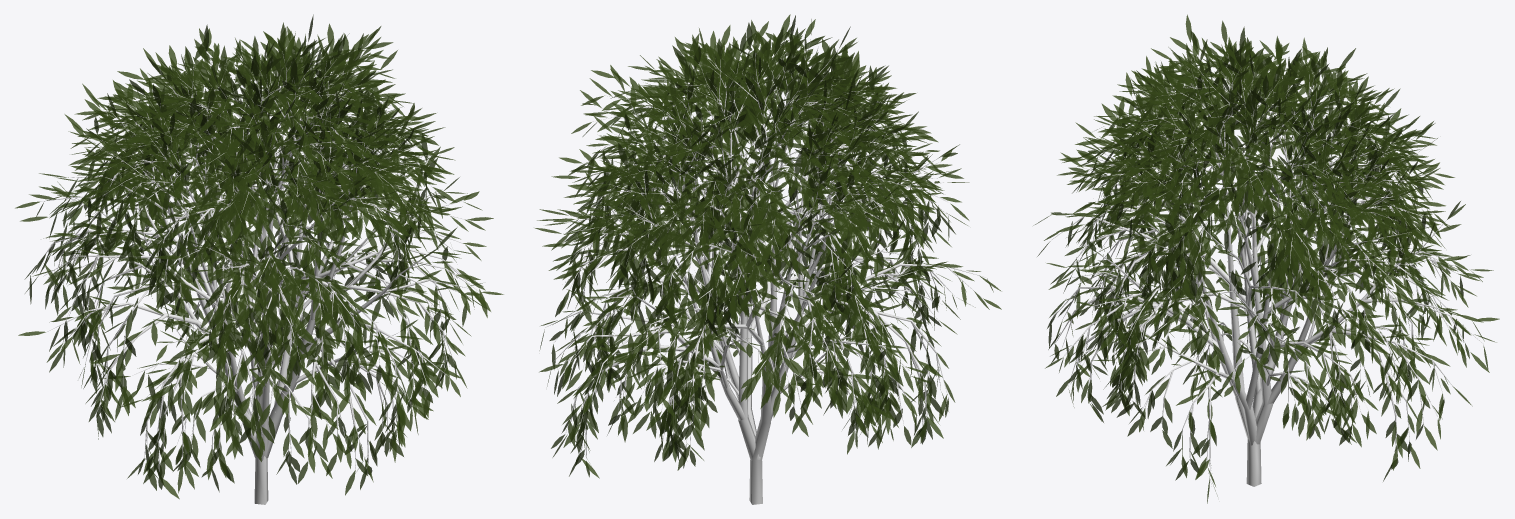
Rendered from Tree 4.fbx.
The picture shows the model from 3 angles, left to right: view 1: azimuth 30°, elevation 25°; view 2: azimuth 150°, elevation 25°; view 3: azimuth 270°, elevation 25°; orthographic projection. The views are drawn at different scales.
Visible parts, largest first — view 1: leaves.001, Tree 4; view 2: leaves.001, Tree 4; view 3: leaves.001, Tree 4.
Part boxes in pixels (left/top/right/bottom): leaves.001: left=15, top=14, right=503, bottom=499; Tree 4: left=31, top=43, right=479, bottom=504; leaves.001: left=535, top=14, right=1001, bottom=478; Tree 4: left=545, top=41, right=986, bottom=504; leaves.001: left=1033, top=14, right=1499, bottom=503; Tree 4: left=1052, top=43, right=1482, bottom=486.
Size of the model in its own units: 893 by 1007 by 956.
